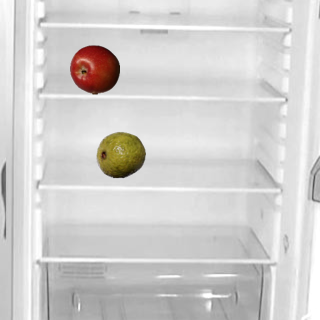Apple Braeburn: (69, 44, 119, 94)
Guava: (95, 129, 145, 179)
